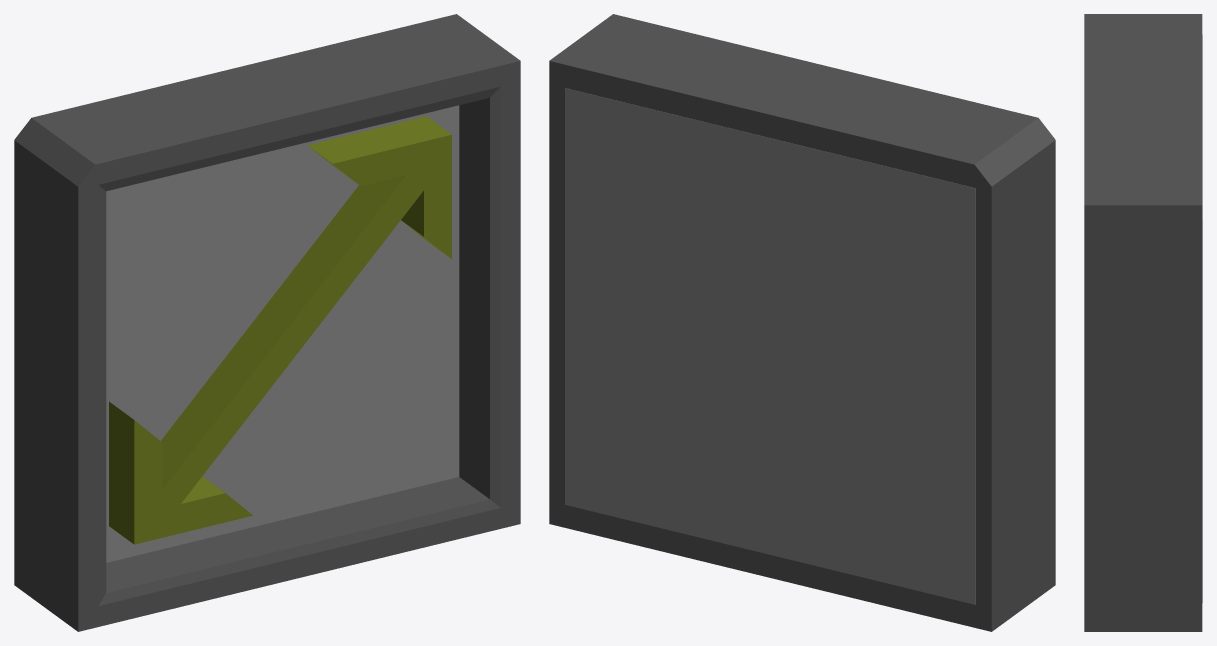
Rendered from buttons_expand.glb.
3 renders of one model, left to right at view 1: azimuth 30°, elevation 25°; view 2: azimuth 150°, elevation 25°; view 3: azimuth 270°, elevation 25°, orthographic. The views are drawn at different scales.
Visible parts, largest first — view 1: Cube.003, Cube.006, Curve.005; view 2: Cube.006, Cube.003; view 3: Cube.003, Cube.006.
Boxes of the visible parts, <box> form: Cube.003: <box>14,14,520,631</box>; Cube.006: <box>106,105,459,562</box>; Curve.005: <box>109,116,451,544</box>; Cube.006: <box>565,88,975,604</box>; Cube.003: <box>549,14,1055,631</box>; Cube.003: <box>1084,14,1202,631</box>; Cube.006: <box>1202,35,1202,602</box>.
Size of the model in its own units: 3.99 by 3.99 by 1.
